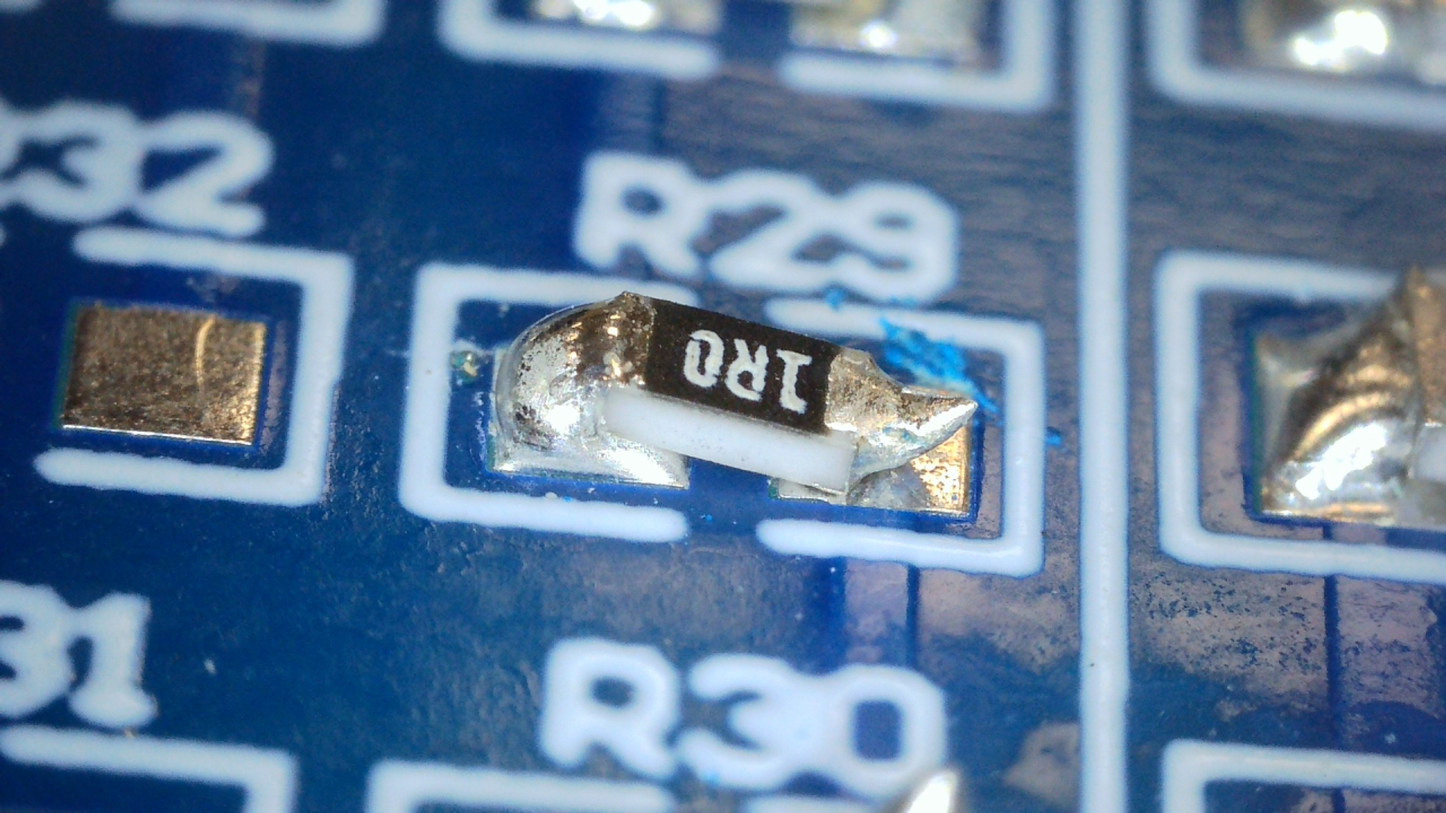NG: (496, 291, 649, 454), (826, 348, 979, 491)
